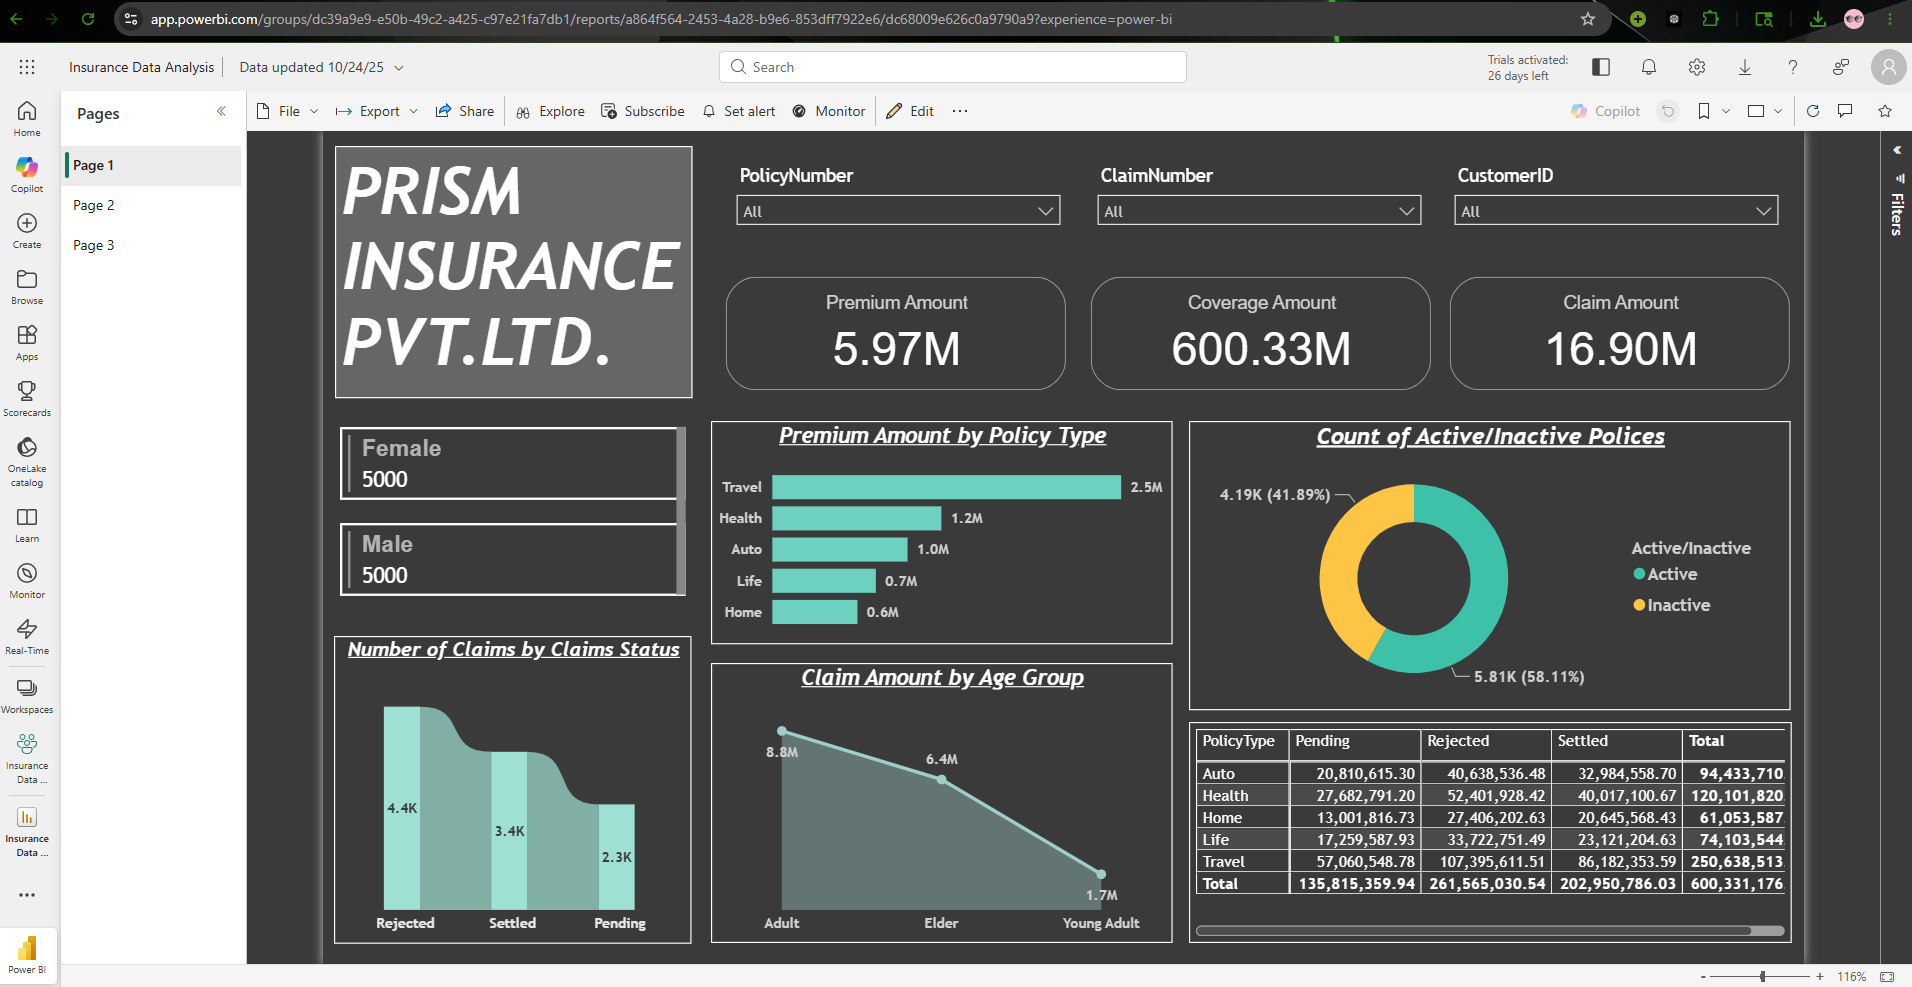

What the dashboard file says about the page in this screenshot:
{"tool":"powerbi","page":{"name":"Page 1","canvas":[1280,720],"ordinal":0},"visuals":[{"type":"slicer","fields":{"Values":["InsuranceData.PolicyNumber"]},"box":[347.3,24.5,300.2,85.2],"z":0},{"type":"slicer","fields":{"Values":["InsuranceData.ClaimNumber"]},"box":[659.2,24.5,300.2,85.2],"z":1000},{"type":"slicer","fields":{"Values":["InsuranceData.CustomerID"]},"box":[968.5,24.5,300.2,85.2],"z":2000},{"type":"textbox","box":[10,12.7,309.2,217.6],"z":3000},{"type":"cardVisual","fields":{"Data":["Sum(InsuranceData.PremiumAmount)"]},"box":[342.9,121.2,304.3,108.6],"z":4000},{"type":"cardVisual","fields":{"Data":["Sum(InsuranceData.CoverageAmount)"]},"box":[659,121.2,304.3,108.6],"z":5000},{"type":"cardVisual","fields":{"Data":["Sum(InsuranceData.ClaimAmount)"]},"box":[968.7,121.2,304.3,108.6],"z":6000},{"type":"multiRowCard","fields":{"Values":["InsuranceData.Gender","CountNonNull(InsuranceData.Gender)"]},"box":[9.9,250.5,308.8,167],"z":7000},{"type":"ribbonChart","title":"Number of Claims by Claims Status ","fields":{"Category":["InsuranceData.ClaimStatus"],"Y":["CountNonNull(InsuranceData.ClaimStatus)"]},"box":[9.9,436.3,308.8,265.7],"z":8000},{"type":"barChart","title":"Premium Amount by Policy Type","fields":{"Category":["InsuranceData.PolicyType"],"Y":["Sum(InsuranceData.PremiumAmount)"]},"box":[335.8,250.5,398.6,193],"z":9000},{"type":"lineChart","title":"Claim Amount by Age Group","fields":{"Category":["InsuranceData.Age Group"],"Y":["Sum(InsuranceData.ClaimAmount)"]},"box":[335.8,459.7,398.6,242.4],"z":10000},{"type":"donutChart","title":"Count of Active/Inactive  Polices","fields":{"Category":["InsuranceData.Active/Inactive "],"Y":["CountNonNull(InsuranceData.Active/Inactive )"]},"box":[748.7,250.5,519.8,249.6],"z":11000},{"type":"pivotTable","fields":{"Columns":["InsuranceData.ClaimStatus"],"Rows":["InsuranceData.PolicyType"],"Values":["Sum(InsuranceData.CoverageAmount)"]},"box":[748.7,510.8,524.3,191.2],"z":12000}]}

Visuals, with their boxes on the page's 1280x720 design canvas (x1, y1, x2, y2). These are canvas units, not pixel positions in the 1912x987 screenshot, which may show the page scaled, cropped or inside an application window:
slicer - InsuranceData.PolicyNumber: [x1=347, y1=24, x2=648, y2=110]
slicer - InsuranceData.ClaimNumber: [x1=659, y1=24, x2=959, y2=110]
slicer - InsuranceData.CustomerID: [x1=968, y1=24, x2=1269, y2=110]
textbox: [x1=10, y1=13, x2=319, y2=230]
cardVisual - Sum(InsuranceData.PremiumAmount): [x1=343, y1=121, x2=647, y2=230]
cardVisual - Sum(InsuranceData.CoverageAmount): [x1=659, y1=121, x2=963, y2=230]
cardVisual - Sum(InsuranceData.ClaimAmount): [x1=969, y1=121, x2=1273, y2=230]
multiRowCard - InsuranceData.Gender x CountNonNull(InsuranceData.Gender): [x1=10, y1=250, x2=319, y2=418]
"Number of Claims by Claims Status " ribbonChart: [x1=10, y1=436, x2=319, y2=702]
"Premium Amount by Policy Type" barChart: [x1=336, y1=250, x2=734, y2=444]
"Claim Amount by Age Group" lineChart: [x1=336, y1=460, x2=734, y2=702]
"Count of Active/Inactive  Polices" donutChart: [x1=749, y1=250, x2=1268, y2=500]
pivotTable - InsuranceData.ClaimStatus x InsuranceData.PolicyType: [x1=749, y1=511, x2=1273, y2=702]
